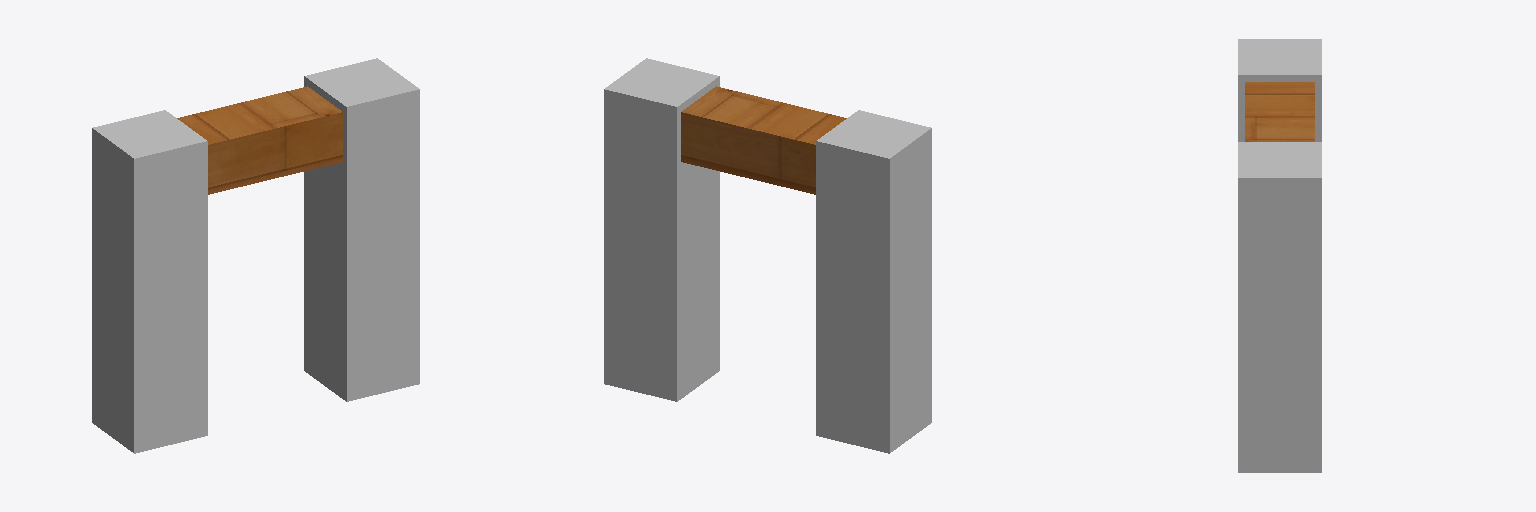
The picture shows the model from 3 angles: view 1: azimuth 30°, elevation 25°; view 2: azimuth 150°, elevation 25°; view 3: azimuth 270°, elevation 25°; orthographic projection.
Visible parts, largest first — view 1: cBox02_Cube.003, cBox01_Cube.002, Portail_Cube.001; view 2: cBox02_Cube.003, cBox01_Cube.002, Portail_Cube.001; view 3: cBox01_Cube.002, cBox02_Cube.003, Portail_Cube.001.
Part boxes in pixels (x1,y1,x2,y2): cBox02_Cube.003: (92,110,207,453); cBox01_Cube.002: (304,58,419,401); Portail_Cube.001: (177,86,342,194); cBox02_Cube.003: (816,110,931,453); cBox01_Cube.002: (604,58,719,401); Portail_Cube.001: (681,86,846,194); cBox01_Cube.002: (1238,142,1321,472); cBox02_Cube.003: (1238,39,1321,141); Portail_Cube.001: (1245,82,1314,141).
Bounding box in the file's own units: 9.36 × 9.24 × 2.41.
Materials: 2 (1 with a texture image).